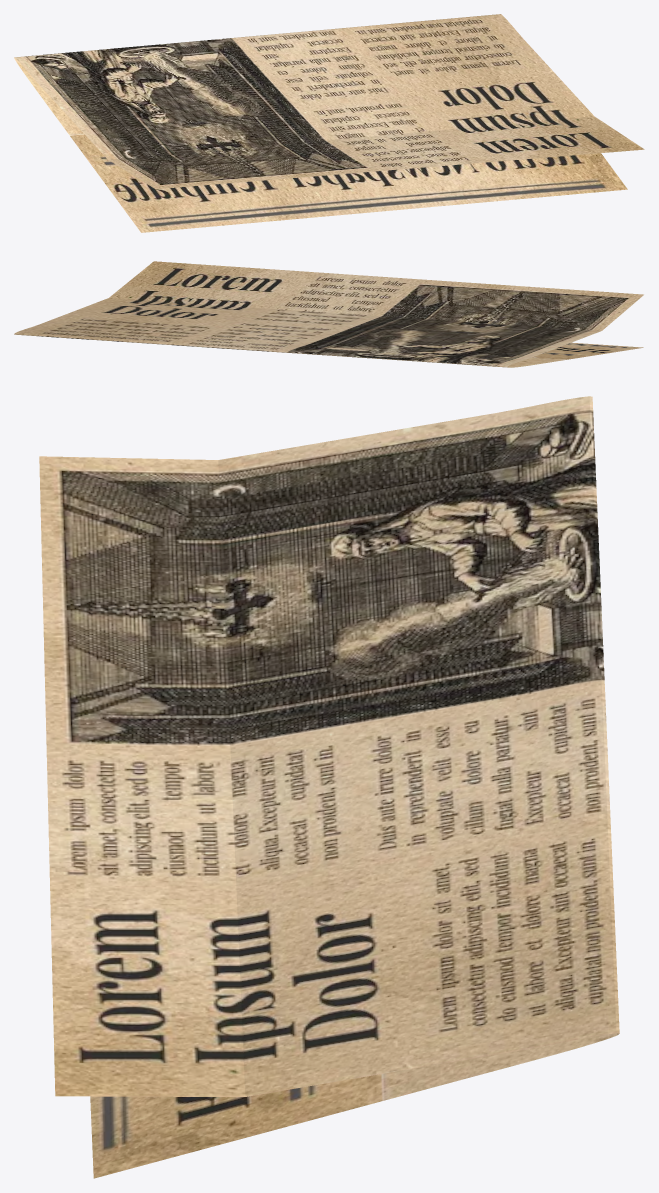
File: newspaper.glb
The picture shows the model from 3 angles, top to bottom: view 1: azimuth 30°, elevation 25°; view 2: azimuth 150°, elevation 25°; view 3: azimuth 270°, elevation 25°; orthographic projection. The views are drawn at different scales.
Visible parts, largest first — view 1: Object_2; view 2: Object_2; view 3: Object_2.
Part boxes in pixels (x1,y1,x2,y2): Object_2: (14,14,644,232); Object_2: (14,261,643,367); Object_2: (39,396,619,1178).
Size of the model in its own units: 1.43 by 0.4326 by 0.7265.
1 material, 1 textured.
